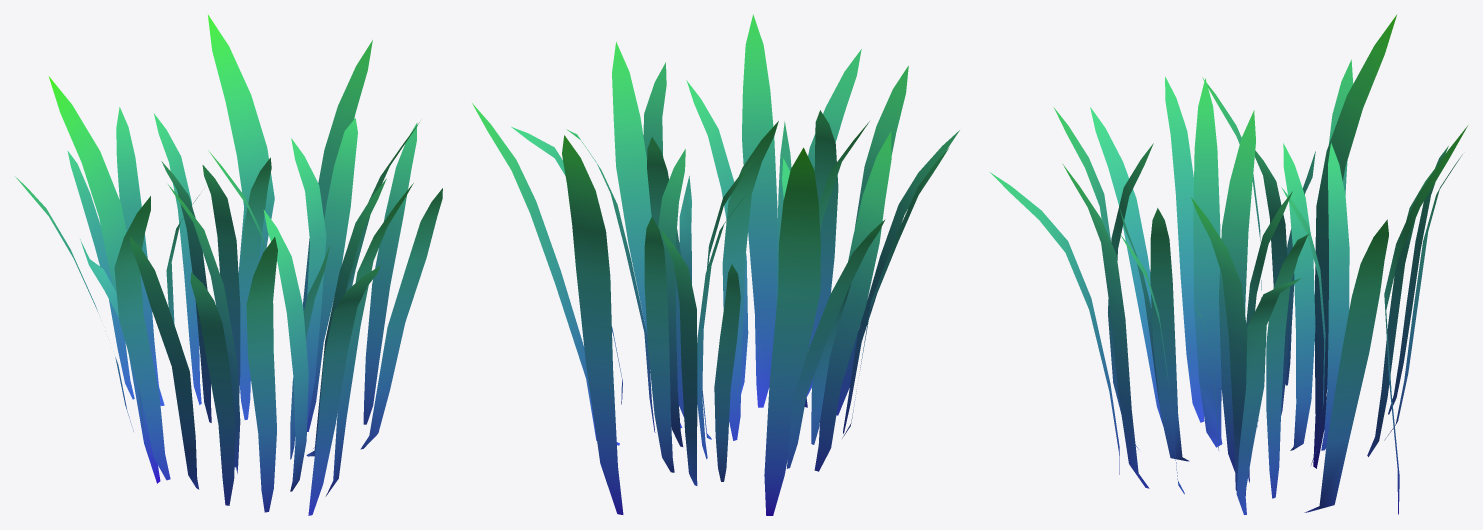
File: GrassMesh2 1.fbx
3 renders of one model, left to right at view 1: azimuth 30°, elevation 25°; view 2: azimuth 150°, elevation 25°; view 3: azimuth 270°, elevation 25°, orthographic. The views are drawn at different scales.
Parts seen in each view (by area): view 1: Plane.063; view 2: Plane.063; view 3: Plane.063.
Part boxes in pixels (x1,y1,x2,y2): Plane.063: (15,14,442,515); Plane.063: (472,14,959,515); Plane.063: (990,15,1467,514).
Size of the model in its own units: 230 by 220 by 221.
1 material, 1 textured.
